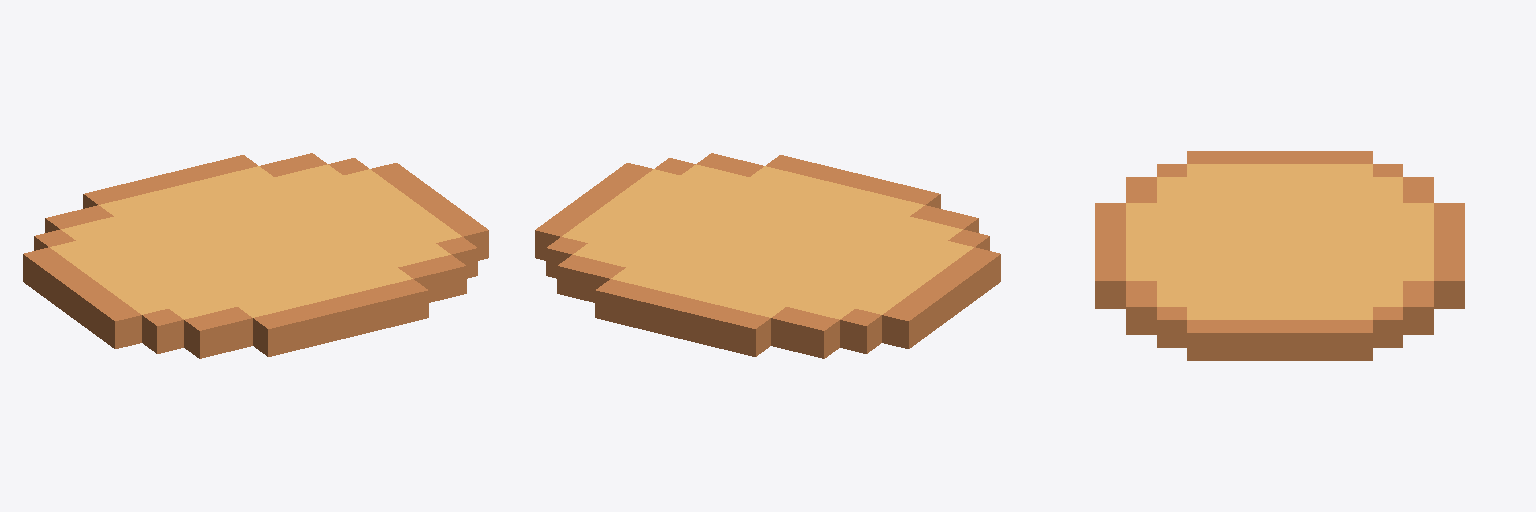
3 views of the same model, side by side, from view 1: azimuth 30°, elevation 25°; view 2: azimuth 150°, elevation 25°; view 3: azimuth 270°, elevation 25° (orthographic).
Visible parts, largest first — view 1: object 1; view 2: object 1; view 3: object 1.
Boxes of the visible parts, x1,y1,x2,y2 form: object 1: [23, 153, 488, 358]; object 1: [535, 153, 1000, 358]; object 1: [1095, 151, 1464, 360].
Size of the model in its own units: 1.4 by 0.1 by 1.2.
1 materials, 1 textured.